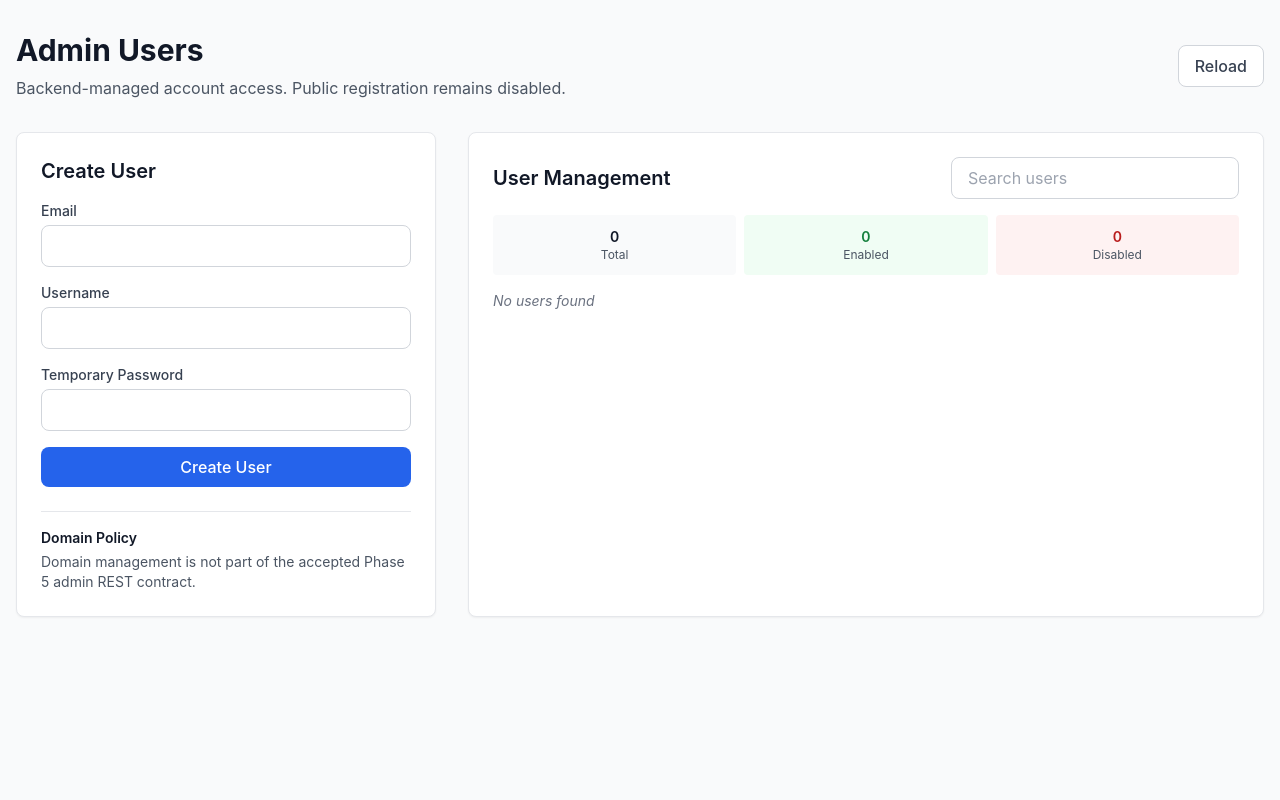
AdminPanel backend REST wiring › creates a user without sending password_hash
Expected: the heading "Create User" is shown, [41, 159, 156, 183]
Type "new@example.com" into the field labelled "Email" at [226, 246], box [41, 225, 411, 267]
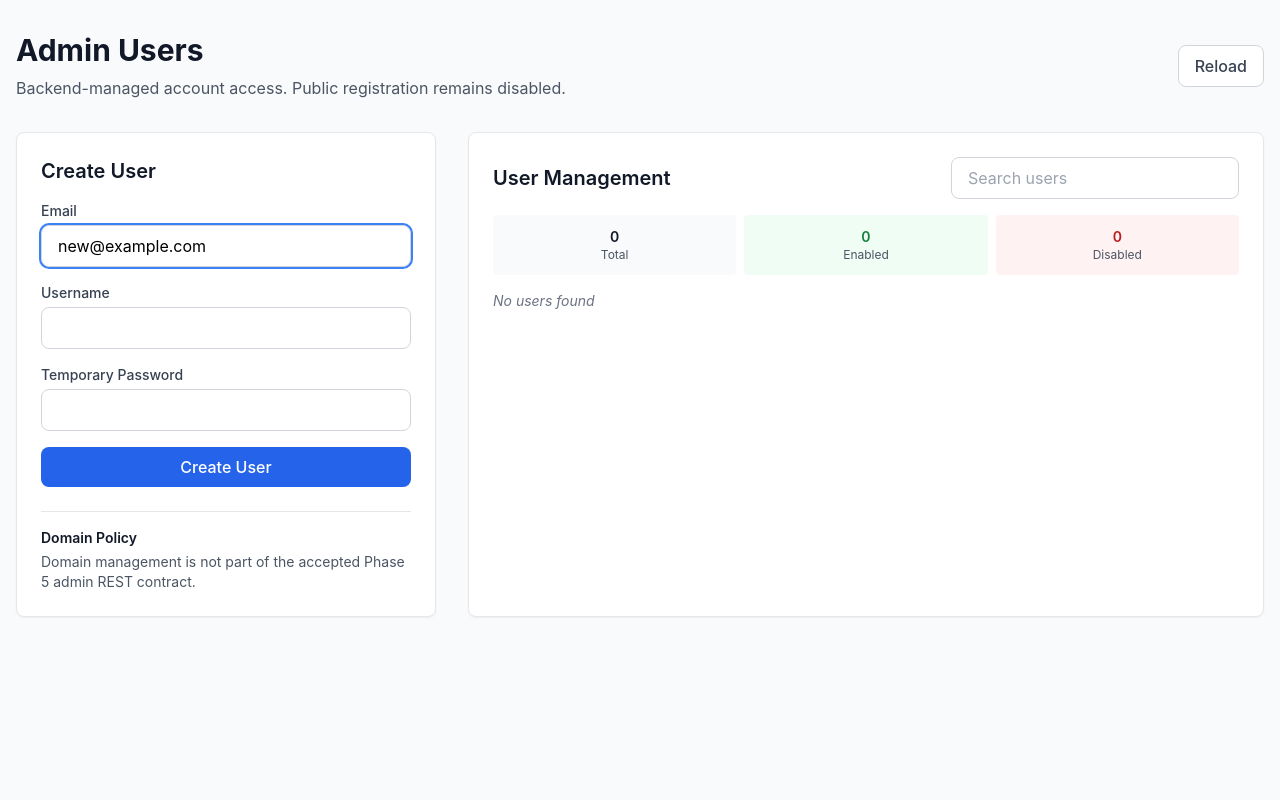
Type "new_user" into the field labelled "Username" at [226, 328], box [41, 307, 411, 349]
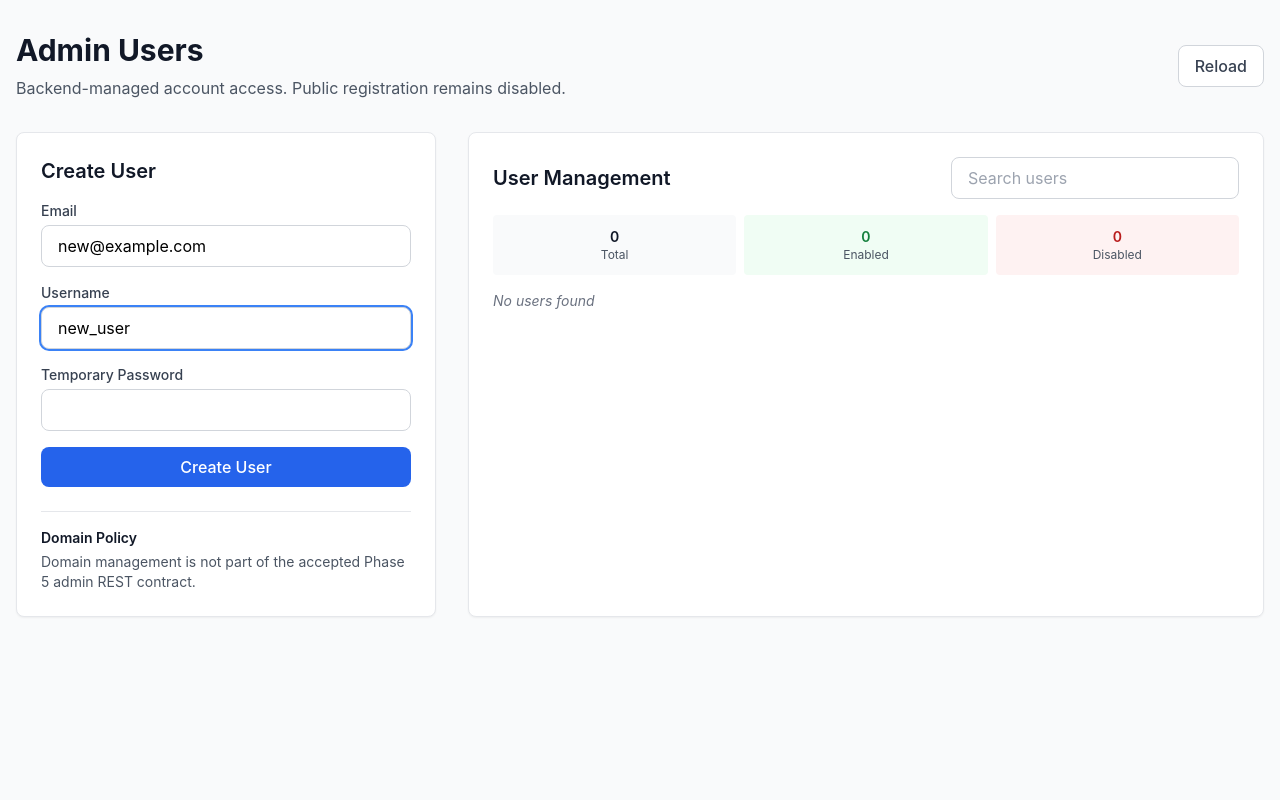
Type "temporary-password" into the password field labelled "Temporary Password" at [226, 410], box [41, 389, 411, 431]
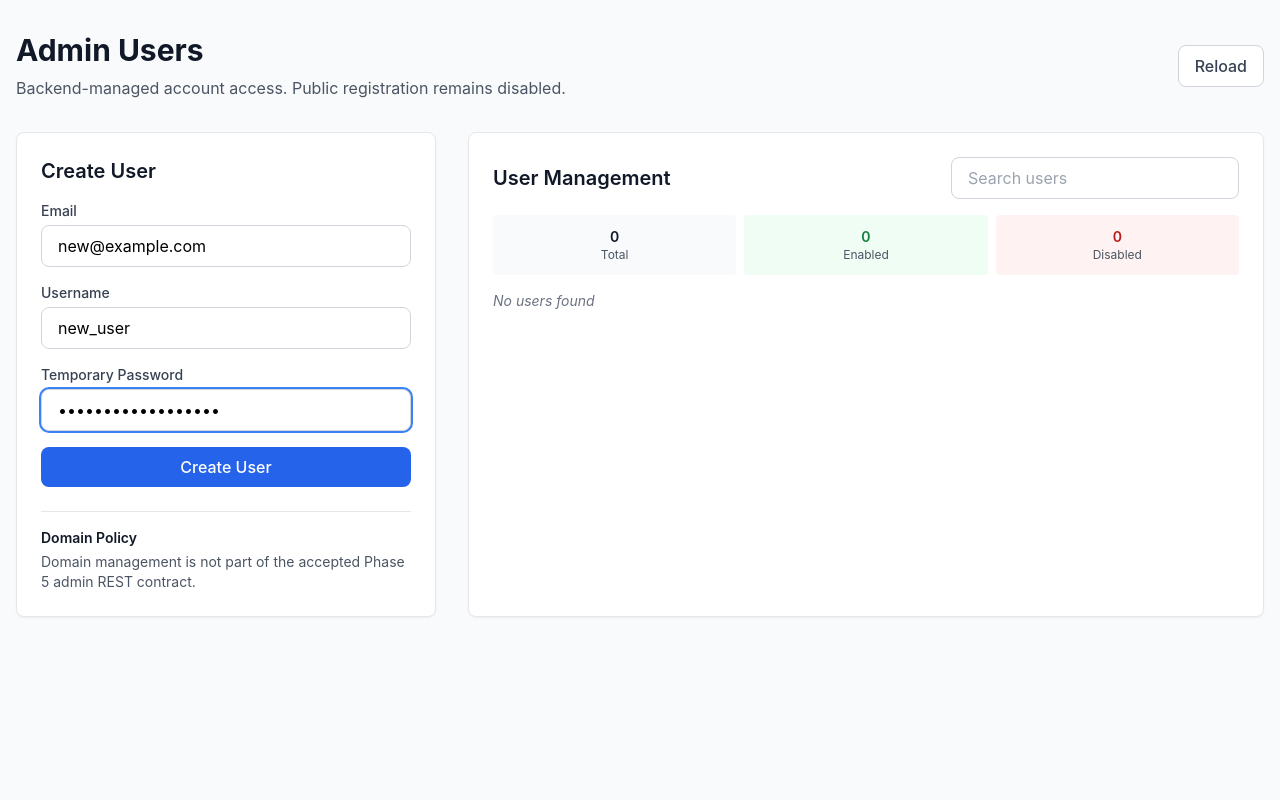
Click the button "Create User" at [226, 467], box [41, 447, 411, 487]
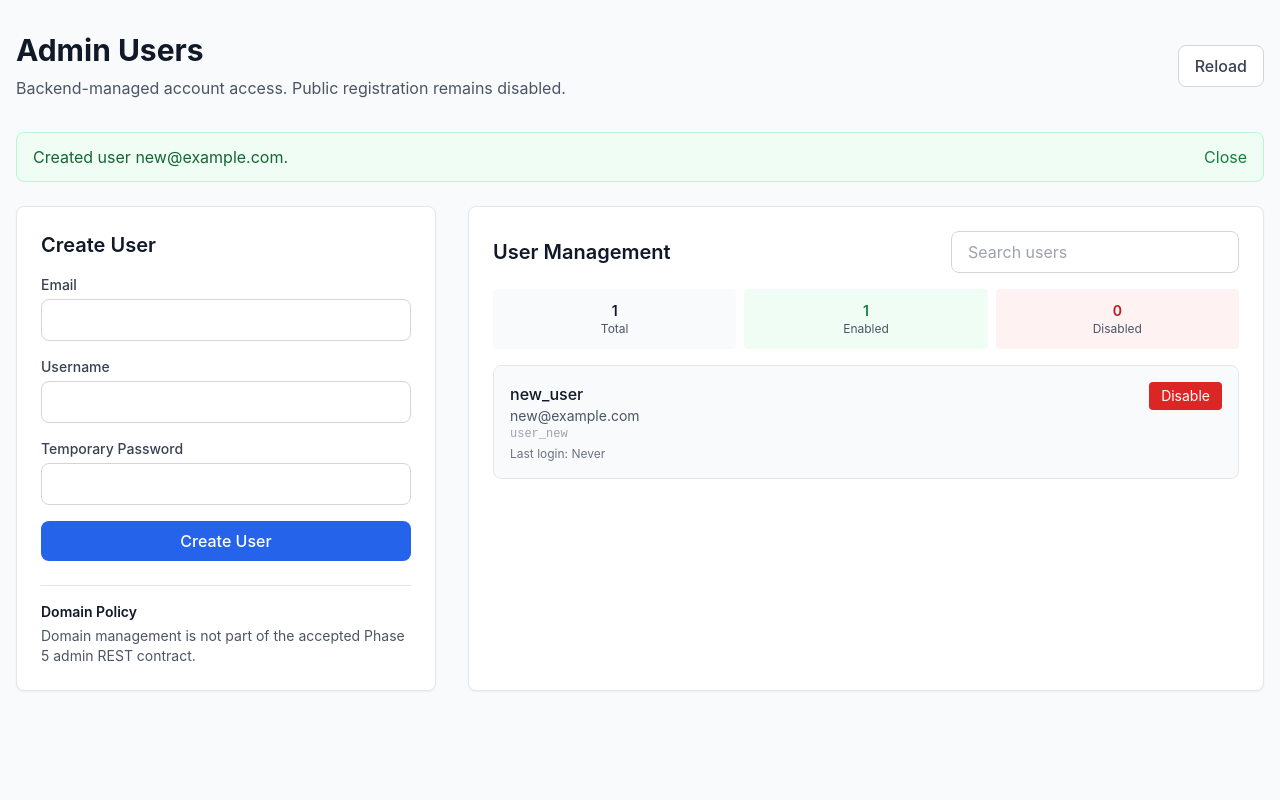
Expected: the text "Created user new@example.com." is shown, [33, 145, 288, 169]
